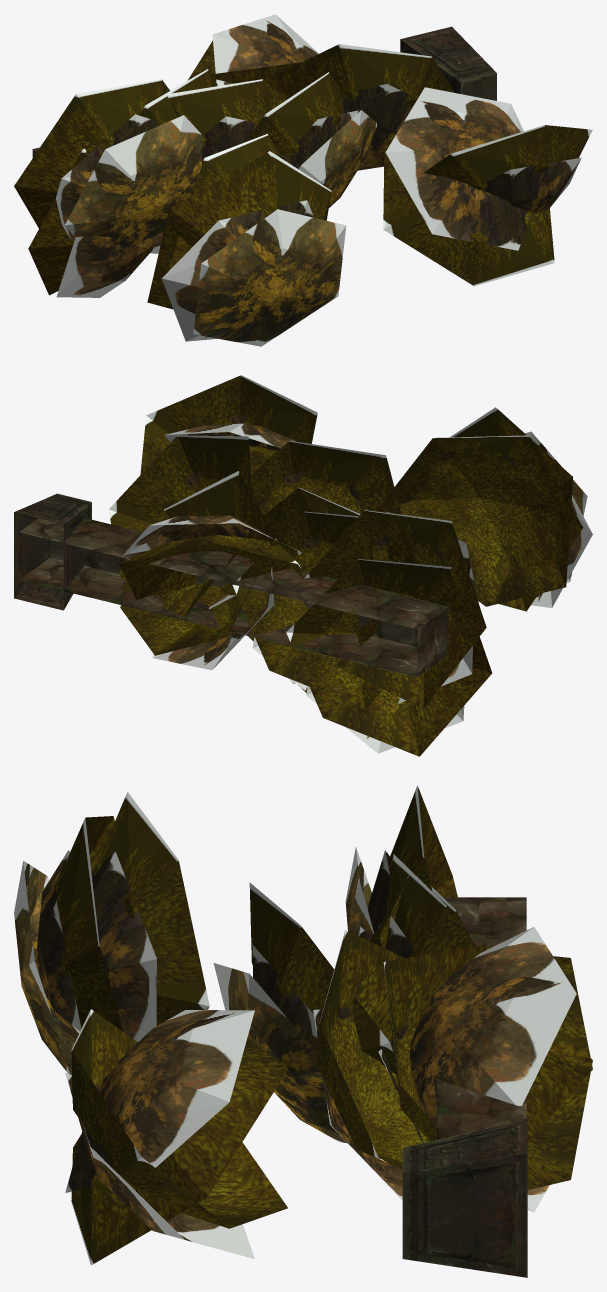
Rendered from huodong_fuben_330_langan_01a.obj.
3 views of the same model, one above another, from view 1: azimuth 30°, elevation 25°; view 2: azimuth 150°, elevation 25°; view 3: azimuth 270°, elevation 25° (orthographic). The views are drawn at different scales.
Parts seen in each view (by area): view 1: huodong_fuben_330_langan_01a_02, huodong_fuben_330_langan_01a_01; view 2: huodong_fuben_330_langan_01a_02, huodong_fuben_330_langan_01a_01; view 3: huodong_fuben_330_langan_01a_02, huodong_fuben_330_langan_01a_01.
Boxes of the visible parts, <box> form: huodong_fuben_330_langan_01a_02: <box>14,14,592,346</box>; huodong_fuben_330_langan_01a_01: <box>32,26,496,157</box>; huodong_fuben_330_langan_01a_02: <box>108,375,592,756</box>; huodong_fuben_330_langan_01a_01: <box>14,493,448,677</box>; huodong_fuben_330_langan_01a_02: <box>14,785,592,1265</box>; huodong_fuben_330_langan_01a_01: <box>402,897,527,1277</box>.
Size of the model in its own units: 220 by 112 by 171.
4 materials, 4 textured.
